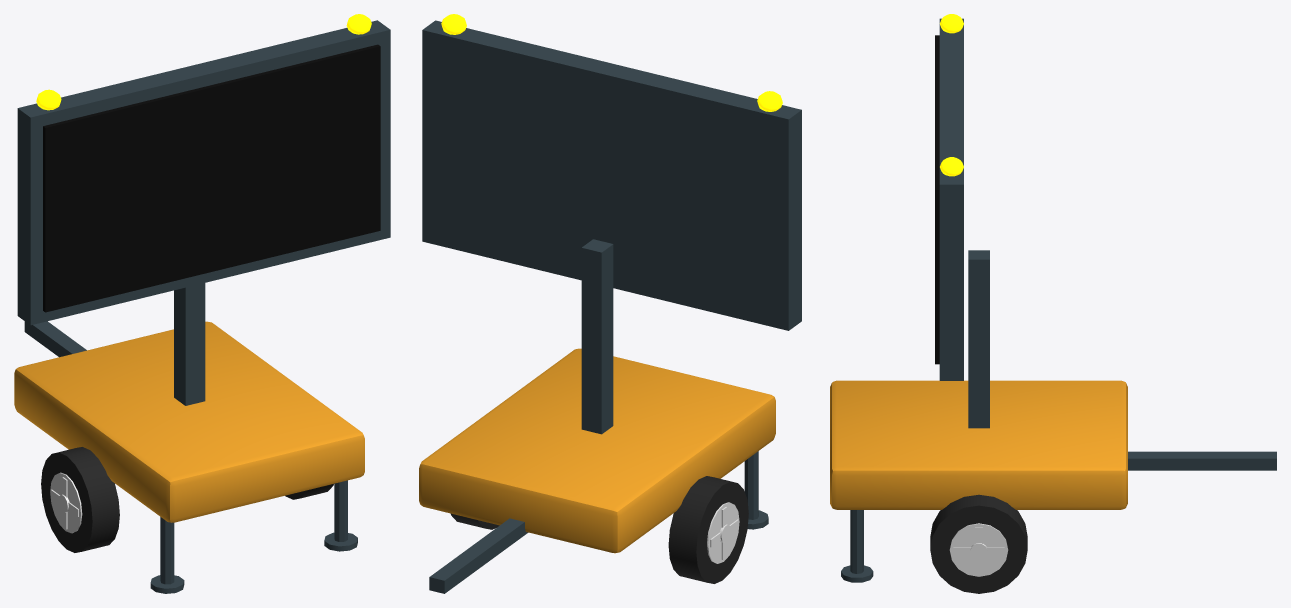
Rendered from shabbos_sign.glb.
3 renders of one model, left to right at view 1: azimuth 30°, elevation 25°; view 2: azimuth 150°, elevation 25°; view 3: azimuth 270°, elevation 25°, orthographic. The views are drawn at different scales.
Parts seen in each view (by area): view 1: ShabbosSign_body, Wheel_R; view 2: ShabbosSign_body, Wheel_R; view 3: ShabbosSign_body, Wheel_L.
Part boxes in pixels (x1,y1,x2,y2): ShabbosSign_body: [14, 14, 390, 593]; Wheel_R: [41, 447, 119, 552]; ShabbosSign_body: [419, 14, 801, 593]; Wheel_R: [668, 476, 748, 583]; ShabbosSign_body: [830, 14, 1276, 582]; Wheel_L: [930, 494, 1027, 593].
Size of the model in its own units: 2.9 by 3.67 by 3.3.
